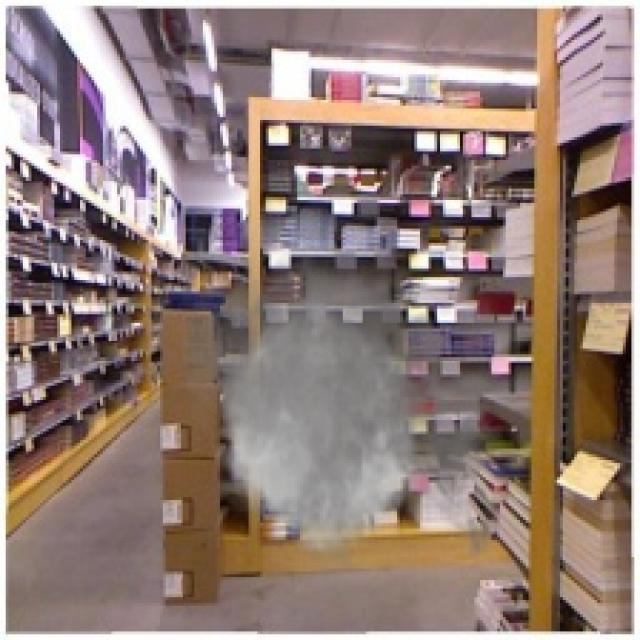Smoke: (168, 231, 512, 623)
